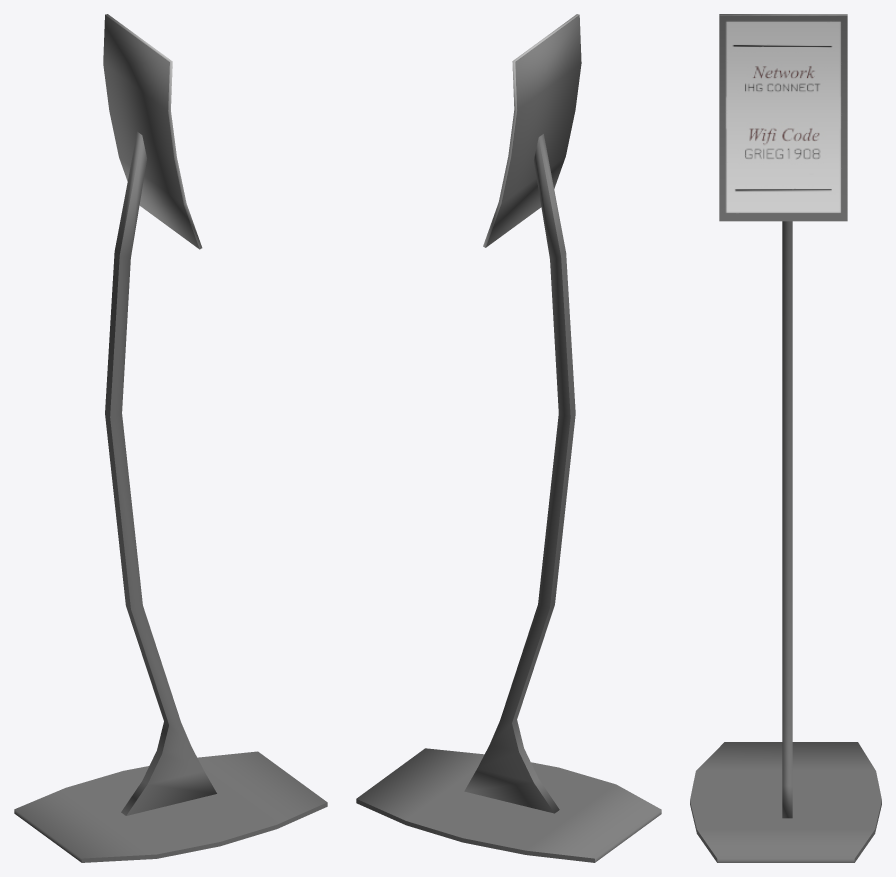
File: Sign Wifi Code.fbx
3 views of the same model, side by side, from view 1: azimuth 30°, elevation 25°; view 2: azimuth 150°, elevation 25°; view 3: azimuth 270°, elevation 25° (orthographic).
Parts seen in each view (by area): view 1: prop_LA_SignWifiCode; view 2: prop_LA_SignWifiCode; view 3: prop_LA_SignWifiCode.
Boxes of the visible parts, box(x1,y1,x2,y2) form: prop_LA_SignWifiCode: box(14, 14, 327, 862); prop_LA_SignWifiCode: box(356, 14, 661, 862); prop_LA_SignWifiCode: box(690, 14, 881, 862).
Bounding box in the file's own units: 0.4831 × 1.49 × 0.3358.
